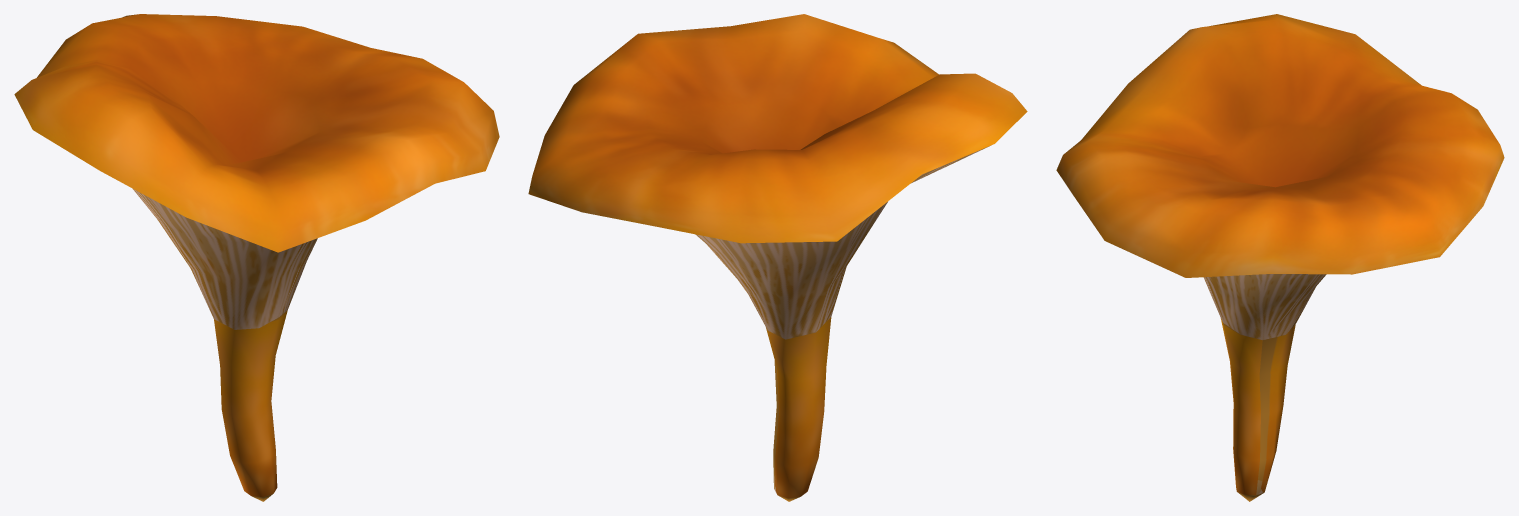
The model's file is chanterelles.DAE.
3 views of the same model, side by side, from view 1: azimuth 30°, elevation 25°; view 2: azimuth 150°, elevation 25°; view 3: azimuth 270°, elevation 25° (orthographic). The views are drawn at different scales.
Parts seen in each view (by area): view 1: chanterelles; view 2: chanterelles; view 3: chanterelles.
Boxes of the visible parts, x1,y1,x2,y2 form: chanterelles: [14, 14, 499, 501]; chanterelles: [528, 14, 1027, 501]; chanterelles: [1056, 14, 1504, 501].
Size of the model in its own units: 0.6125 by 0.6164 by 0.6176.
Materials: 1 (1 with a texture image).
